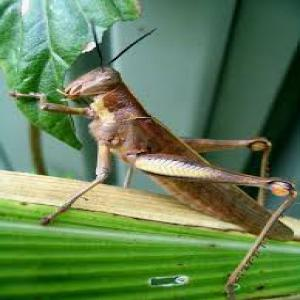locust: (66, 30, 299, 279)
